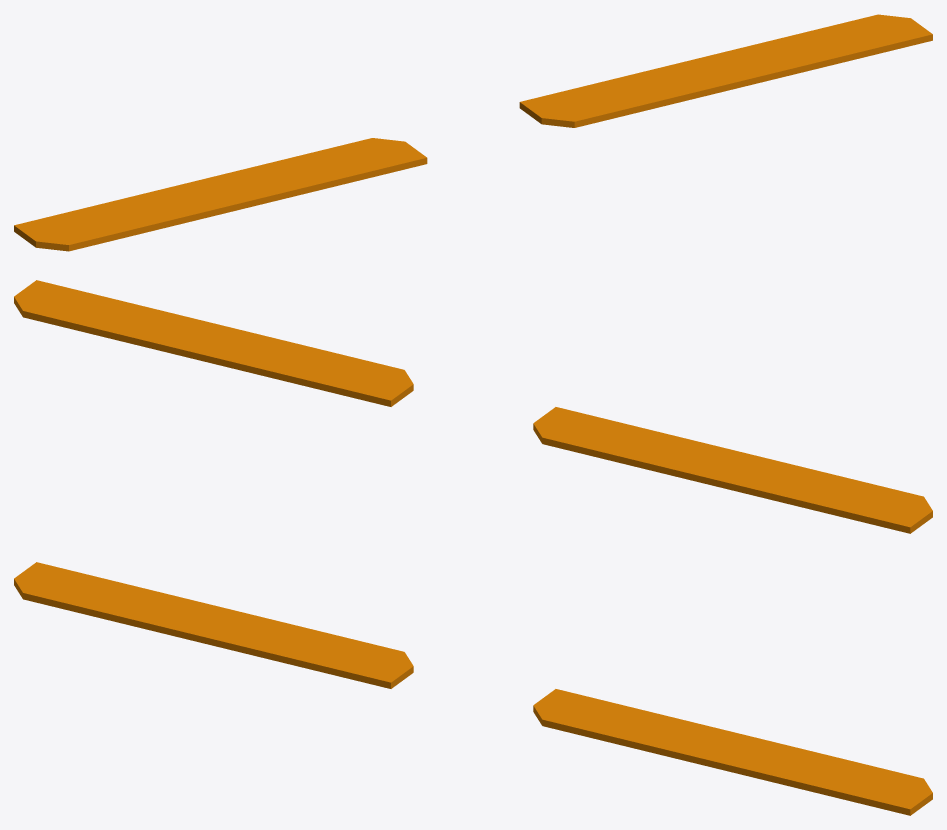
The model's file is LPSciFi_DoubleRoadLine.fbx.
3 views of the same model, one above another, from view 1: azimuth 30°, elevation 25°; view 2: azimuth 150°, elevation 25°; view 3: azimuth 330°, elevation 25° (orthographic). The views are drawn at different scales.
Visible parts, largest first — view 1: DoubleRoadLine; view 2: DoubleRoadLine; view 3: DoubleRoadLine.
Boxes of the visible parts, x1,y1,x2,y2 form: DoubleRoadLine: [14, 14, 932, 251]; DoubleRoadLine: [14, 280, 932, 533]; DoubleRoadLine: [14, 562, 932, 815].
Size of the model in its own units: 350 by 2.4 by 23.3.
